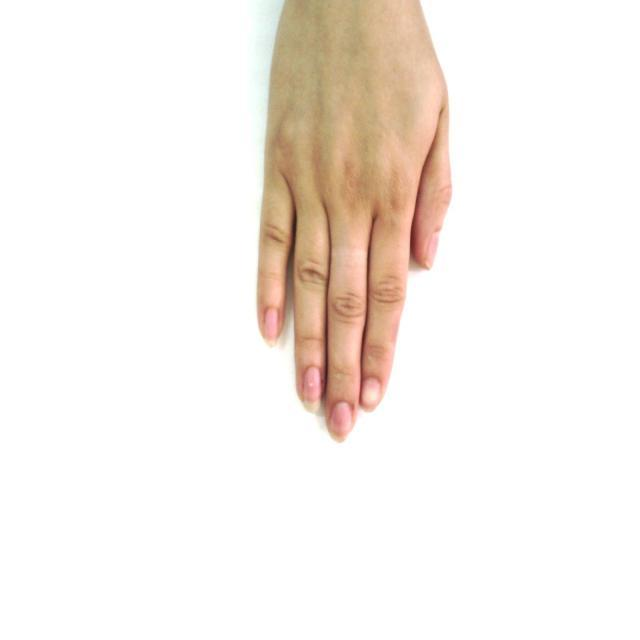Fingernail: (303, 367, 321, 412), (330, 403, 352, 439), (264, 309, 280, 344), (362, 378, 380, 408), (425, 234, 439, 268)
